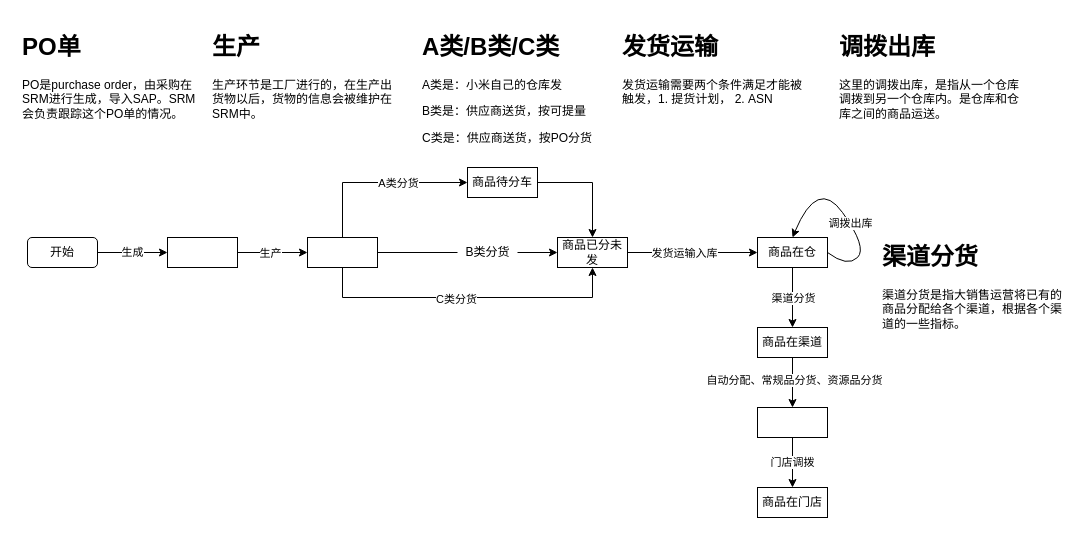
Image size: 1084x535. Some labels were removed from this diagram. Here are the shapes that lost their labels. From the top down, the centre of each, then its label:
point 202,252: 商品PO单
point 342,252: 商品可提
point 792,422: 商品分配给门店
